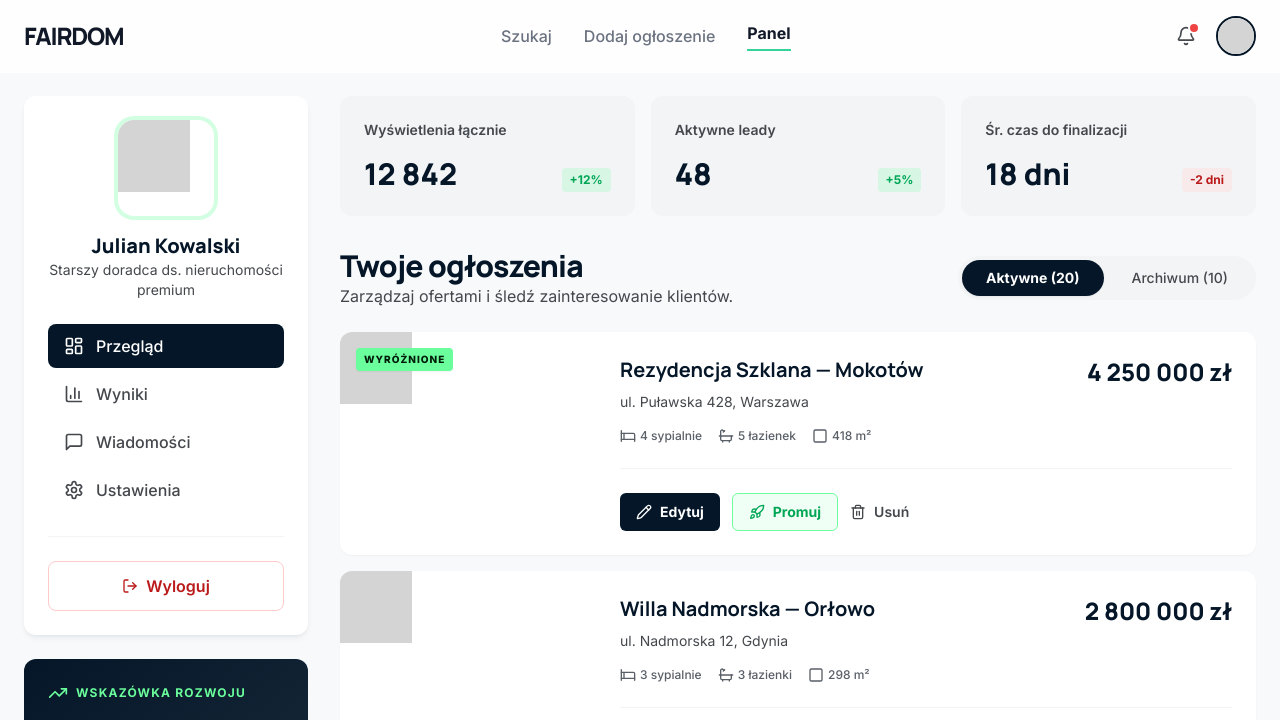
Test: AgentDashboardClient › shows messages panel when Wiadomości is selected
The width and height of the screenshot is (1280, 720).
Click the button "Wiadomości".
click(166, 442)  # box [48,420,284,464]
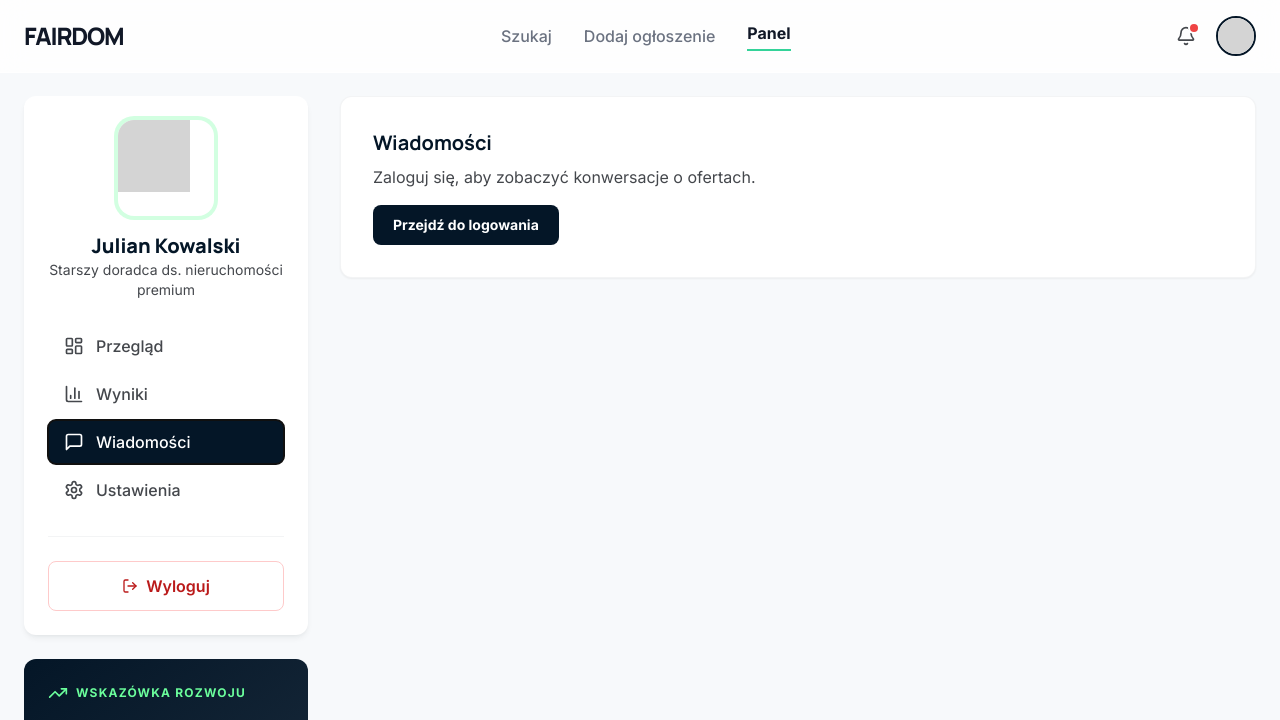
Result: the text "Zaloguj się, aby zobaczyć konwersacje o ofertach." is shown at [373,167,756,187]
Result: the heading "Twoje ogłoszenia" is gone
